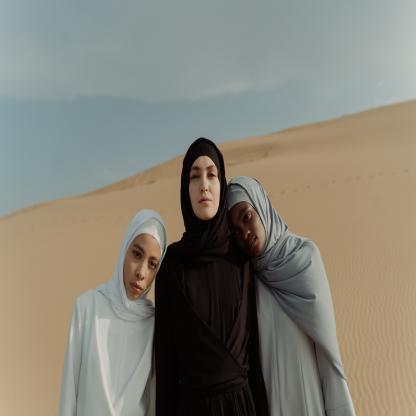Eye: (132, 248, 142, 261), (242, 212, 252, 223), (232, 226, 240, 239), (207, 170, 217, 180), (148, 260, 157, 270), (190, 172, 200, 181)
Mouth: (198, 194, 212, 206), (246, 236, 258, 250), (129, 281, 143, 293)
Nose: (135, 261, 146, 280), (240, 224, 251, 242), (200, 178, 209, 193)
